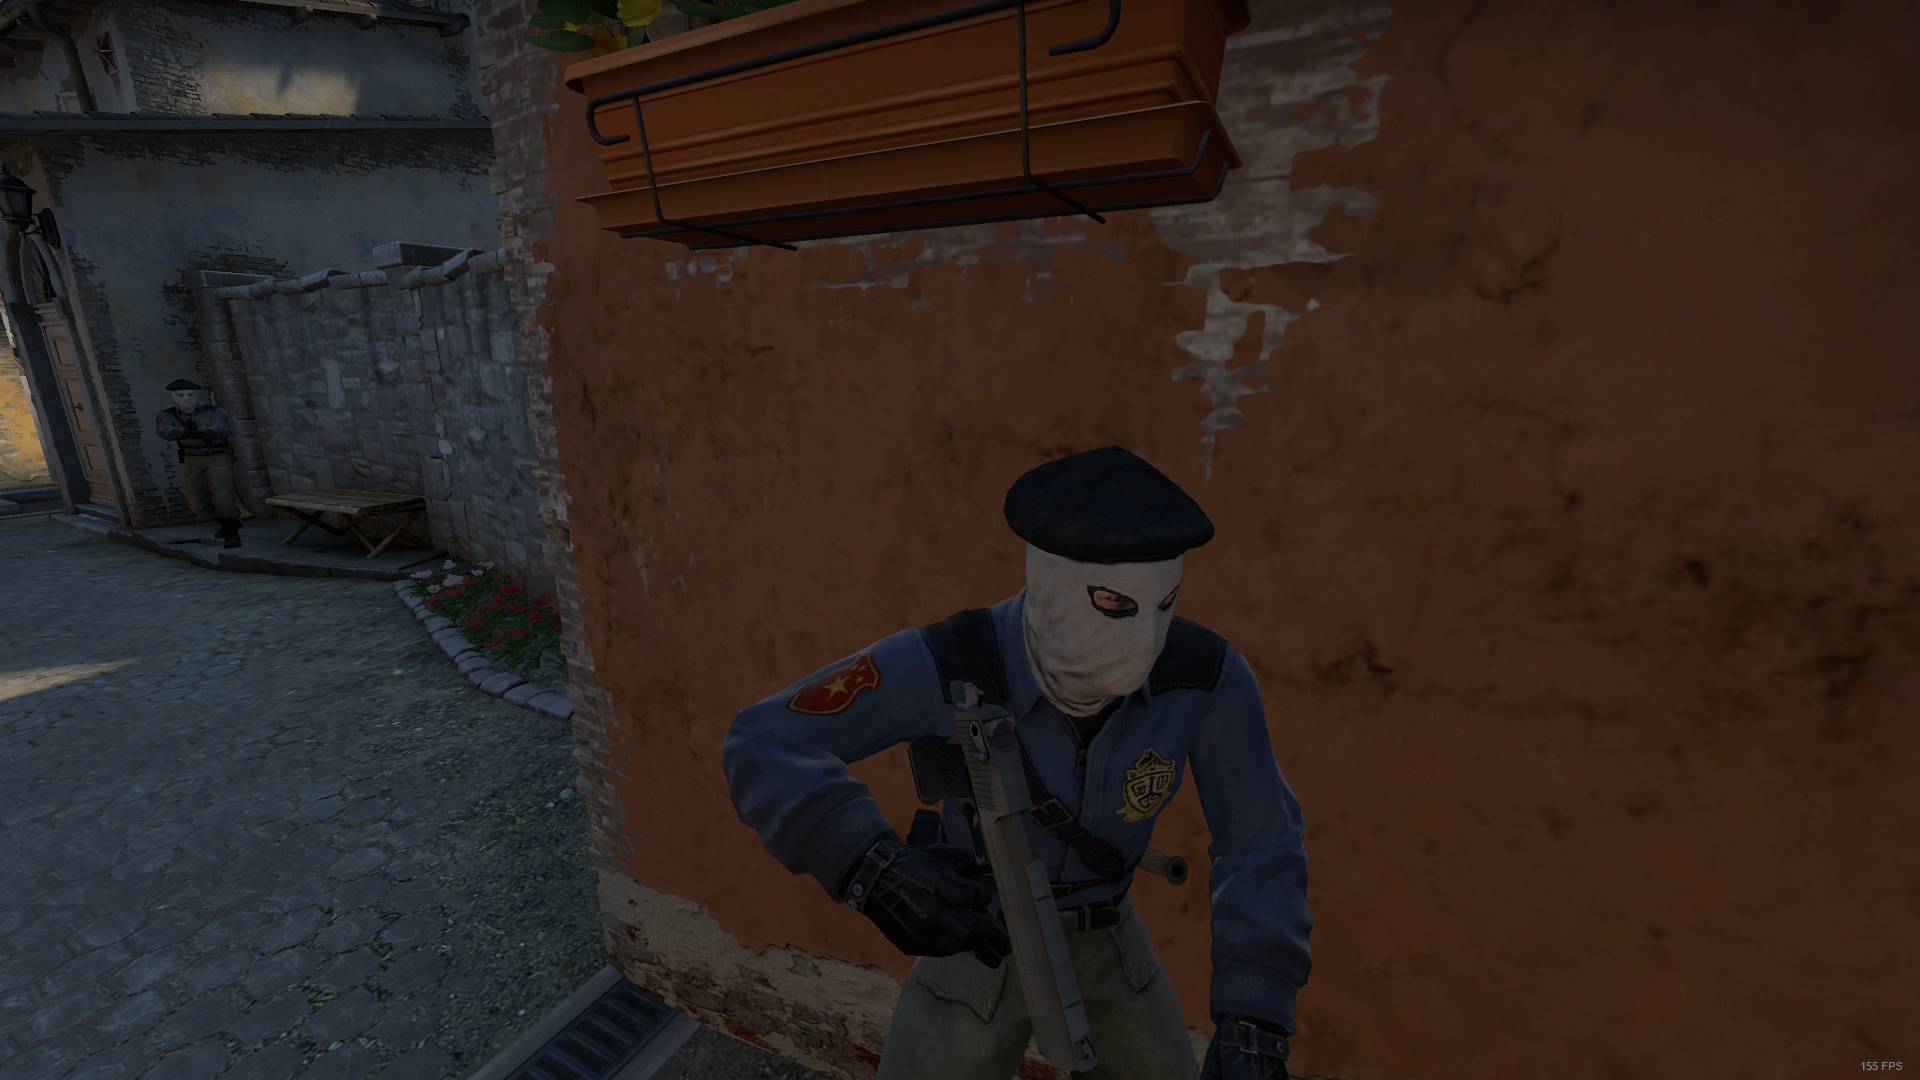t: (711, 438, 1323, 1080)
